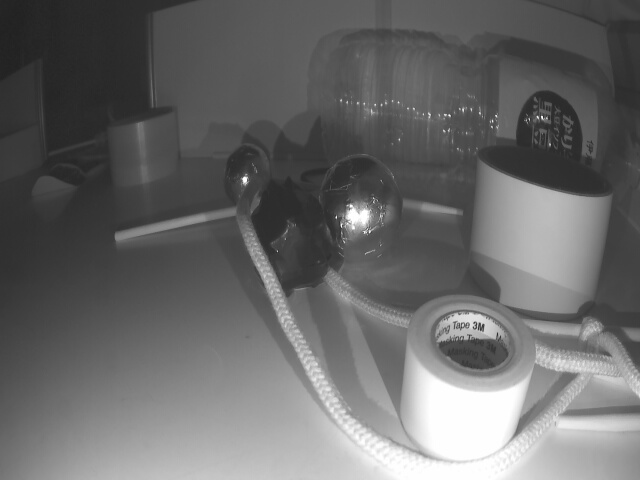Dead: (261, 189, 337, 289)
Live: (326, 152, 399, 258), (226, 145, 272, 203)
